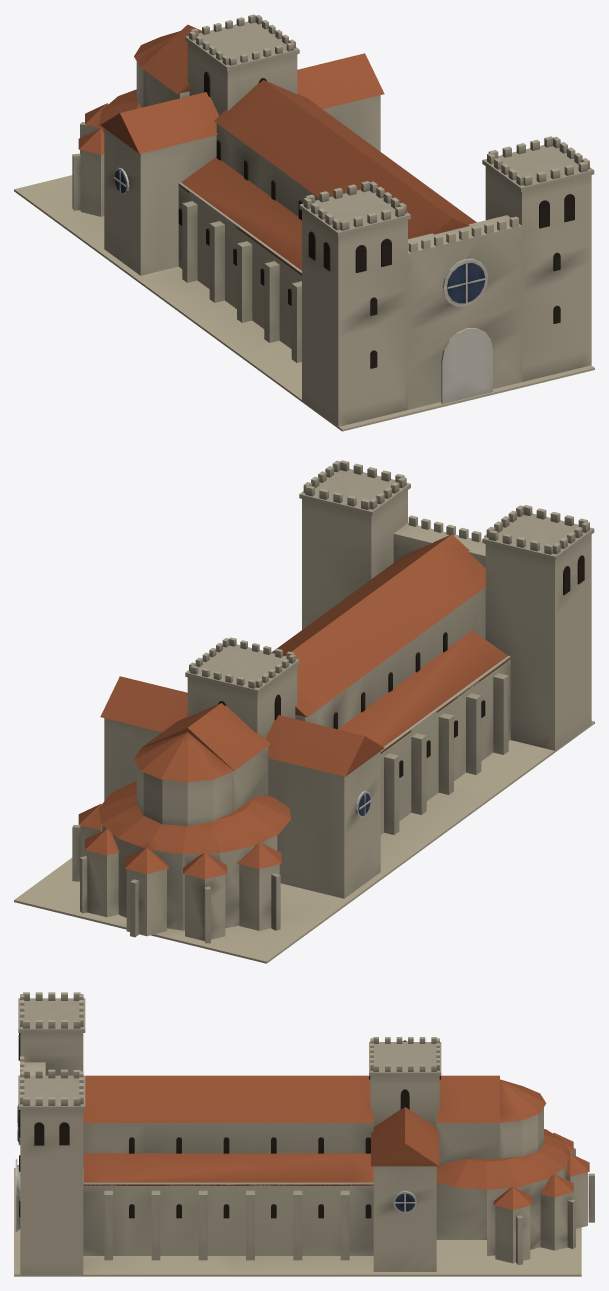
3 renders of one model, top to bottom at view 1: azimuth 30°, elevation 25°; view 2: azimuth 150°, elevation 25°; view 3: azimuth 270°, elevation 25°, orthographic. The views are drawn at different scales.
Visible parts, largest first — view 1: p2_towers, p1_nave, p0_ground; view 2: p1_nave, p2_towers, p0_ground; view 3: p1_nave, p2_towers, p0_ground.
Boxes of the visible parts, x1,y1,x2,y2 form: p2_towers: (185, 14, 594, 426); p1_nave: (72, 24, 476, 362); p0_ground: (14, 175, 594, 431); p1_nave: (72, 534, 510, 943); p2_towers: (185, 460, 594, 750); p0_ground: (14, 721, 594, 963); p1_nave: (83, 1040, 594, 1271); p2_towers: (15, 992, 441, 1274); p0_ground: (14, 1168, 581, 1276).
Bounding box in the file's own units: 40.6 × 31.05 × 92.1.
